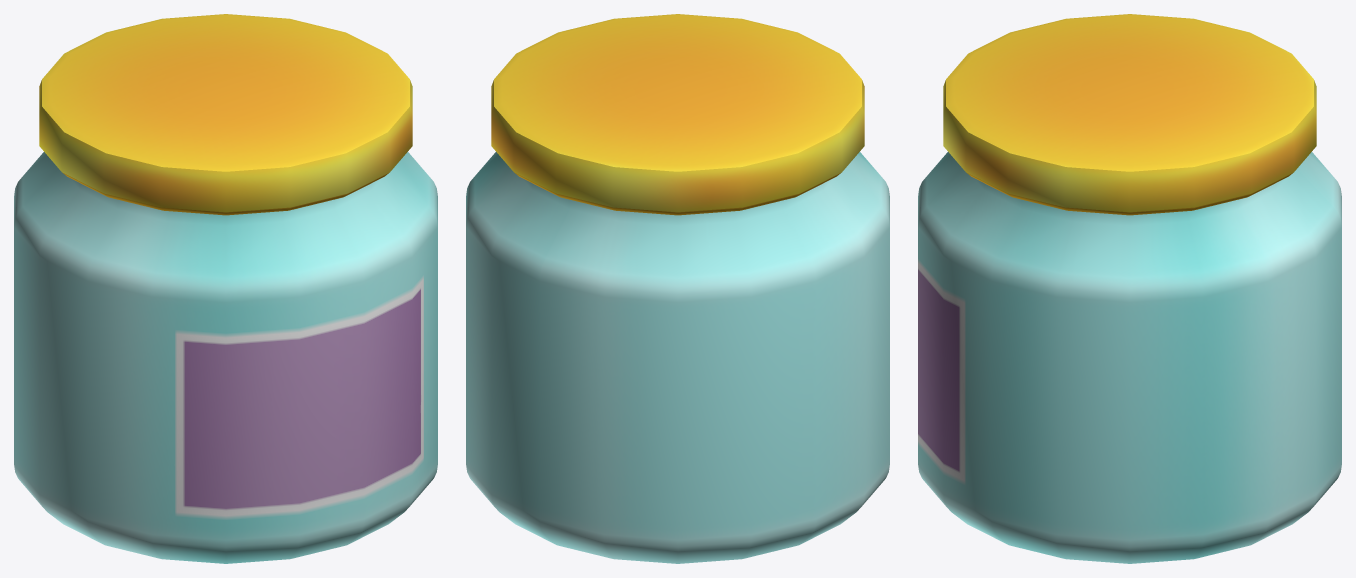
The model's file is jar.FBX.
The picture shows the model from 3 angles, left to right: view 1: azimuth 30°, elevation 25°; view 2: azimuth 150°, elevation 25°; view 3: azimuth 270°, elevation 25°; orthographic projection.
Parts seen in each view (by area): view 1: jar; view 2: jar; view 3: jar.
Part boxes in pixels (x1,y1,x2,y2): jar: [14, 14, 437, 563]; jar: [466, 14, 889, 563]; jar: [918, 14, 1341, 563].
Bounding box in the file's own units: 31.24 × 31.57 × 30.76.
